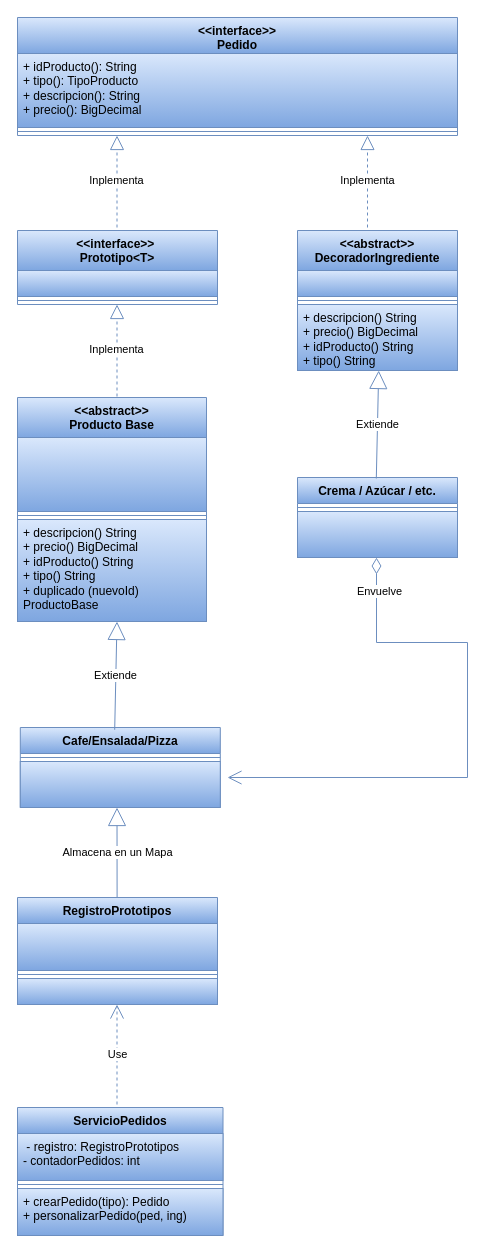
Image size: 502x1256. Some labels were removed from this diagram. The centre of each missing label's shape, as x and y in pixels:
"# pedido: Pedido" belongs at point 377,283.
"+ clonar(tipo, nuevoId): Pedido" belongs at point 117,991.
"+ copiar(nuevoId String): Pedido" belongs at point 117,283.
"+ descripcion() String + precio() BigDecimal" belongs at point 377,534.
"+ duplicado (nuevoId) ProductoBase" belongs at point 119,784.
"- id String - tipo TipoProducto - descripcion String - precio Big Decimal" belongs at point 111,474.
"- prototipos: Map<TipoProducto, ProductoBase>" belongs at point 117,946.
